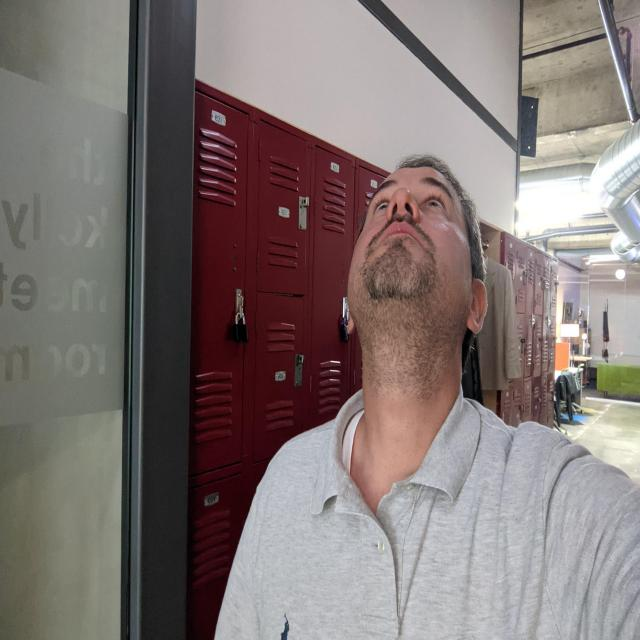face: (350, 167, 474, 331)
